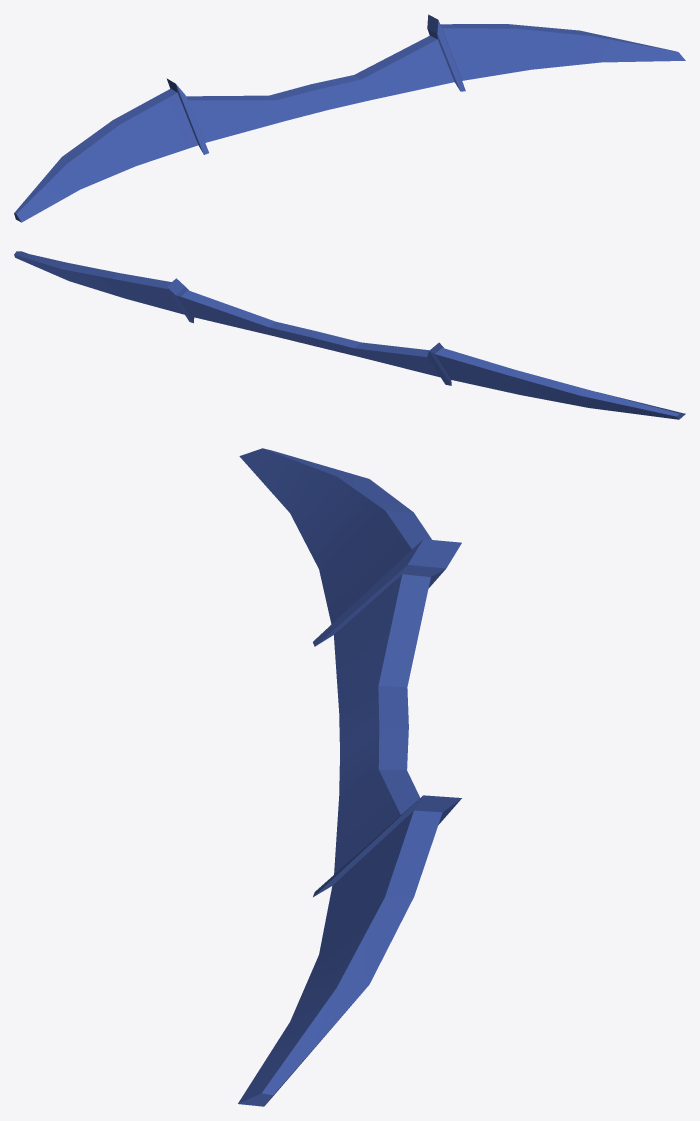
File: M5_spo1.1.fbx
3 renders of one model, top to bottom at view 1: azimuth 30°, elevation 25°; view 2: azimuth 150°, elevation 25°; view 3: azimuth 270°, elevation 25°, orthographic. The views are drawn at different scales.
Visible parts, largest first — view 1: M5_Spo1_1; view 2: M5_Spo1_1; view 3: M5_Spo1_1.
Boxes of the visible parts, x1,y1,x2,y2 form: M5_Spo1_1: (14,14,685,222); M5_Spo1_1: (14,251,685,419); M5_Spo1_1: (238,448,461,1106).
Bounding box in the file's own units: 105 × 8.7 × 15.34.
